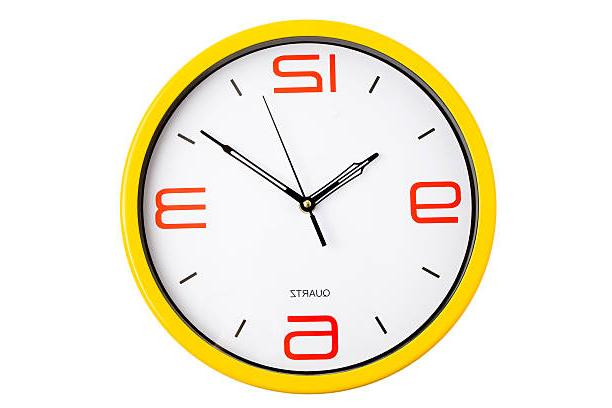clock: (119, 21, 497, 400)
